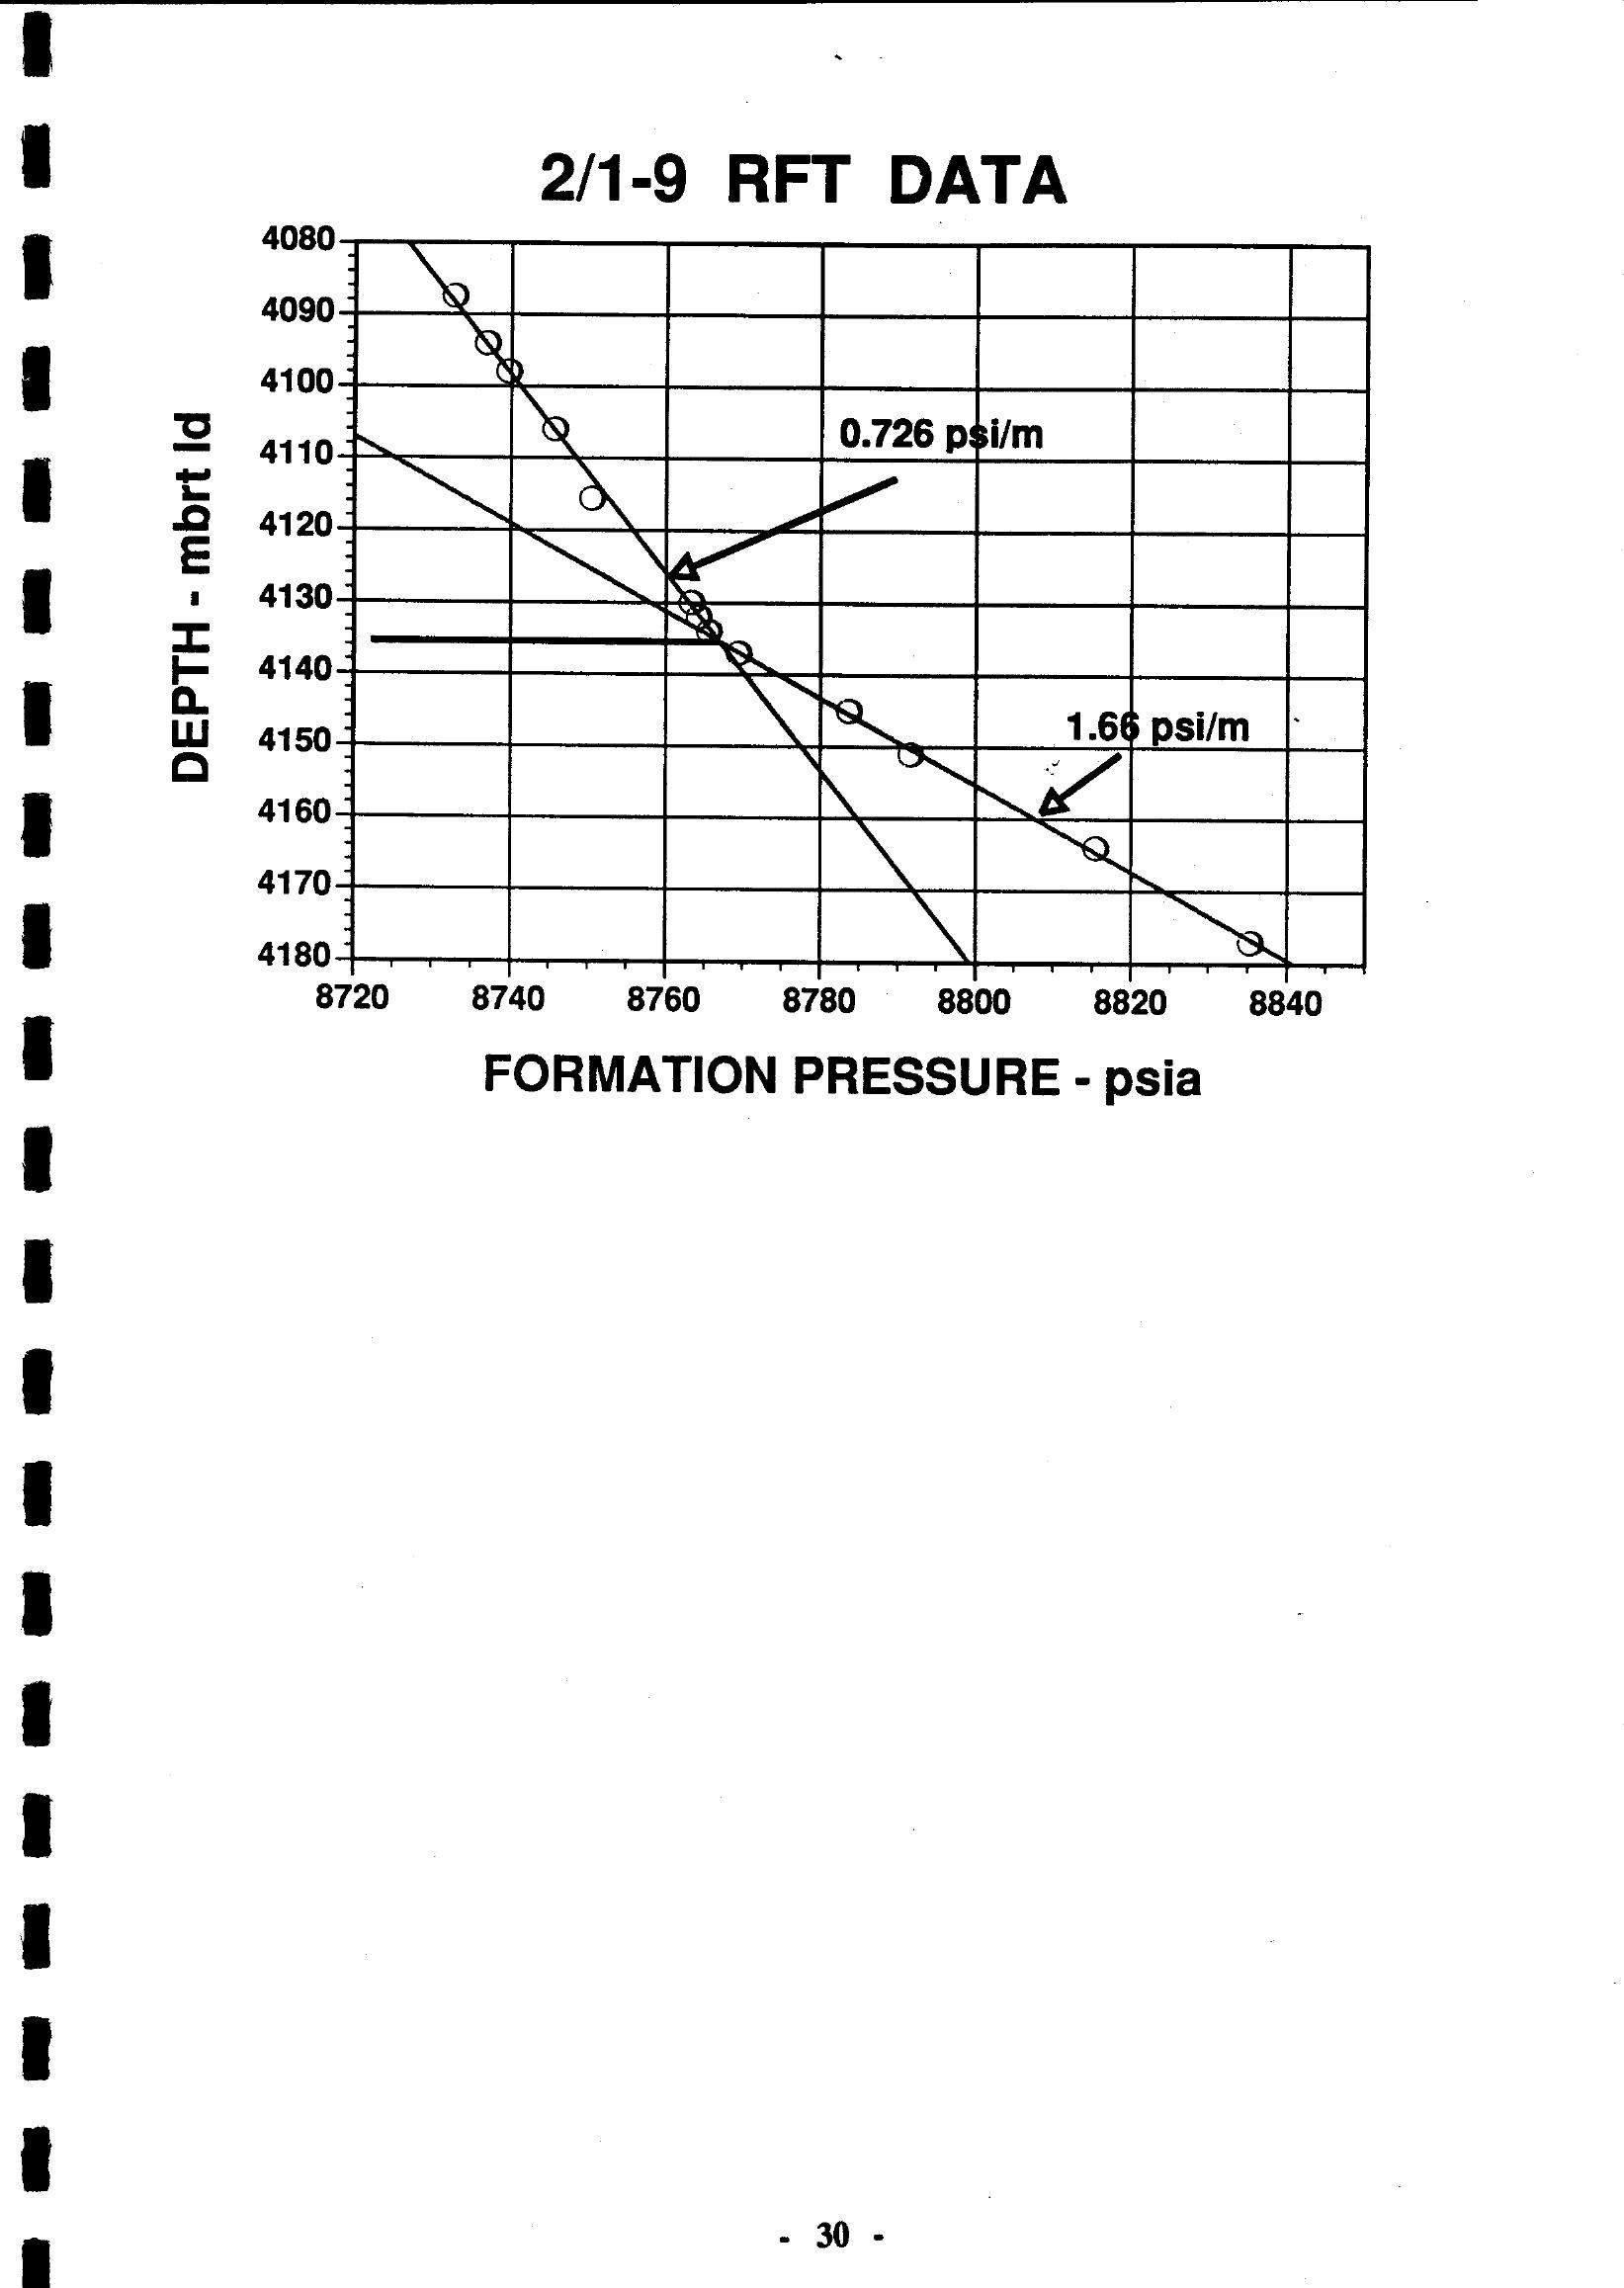graph: (132, 125, 1415, 1142)
